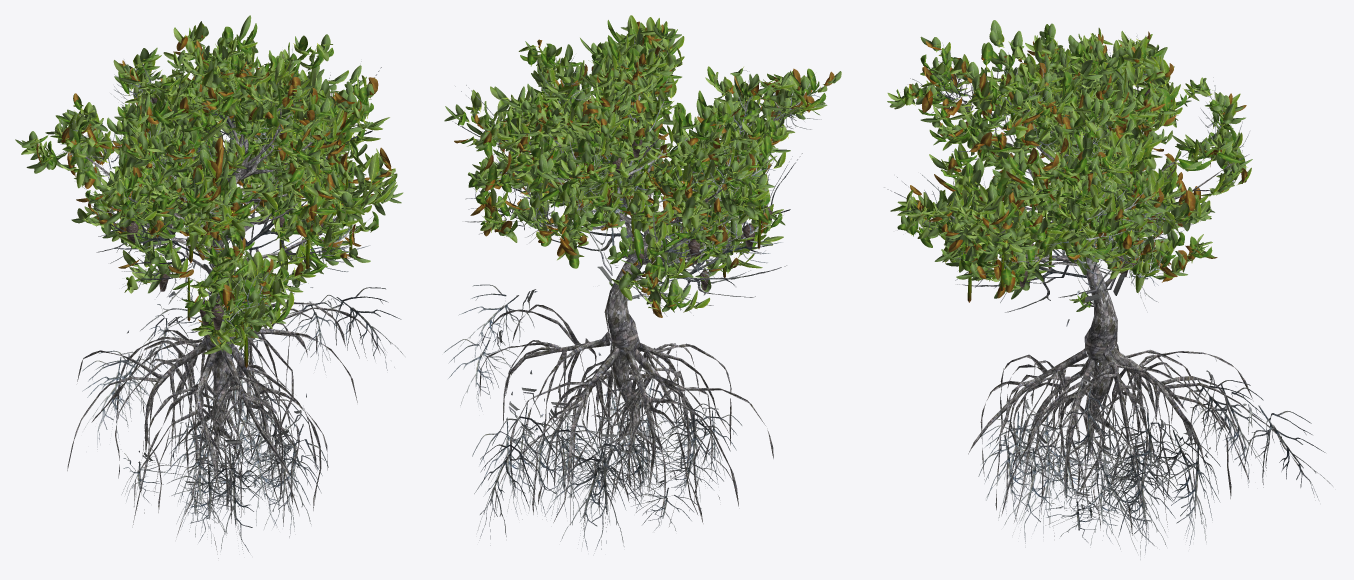
Rendered from red_lod0.glb.
The picture shows the model from 3 angles, left to right: view 1: azimuth 30°, elevation 25°; view 2: azimuth 150°, elevation 25°; view 3: azimuth 270°, elevation 25°; orthographic projection. The views are drawn at different scales.
Visible parts, largest first — view 1: lod0; view 2: lod0; view 3: lod0.
Part boxes in pixels (<box>): lod0: <box>15,15,403,558</box>; lod0: <box>444,15,841,555</box>; lod0: <box>884,20,1332,559</box>.
Bounding box in the file's own units: 6.79 × 9.41 × 7.62.
4 materials, 4 textured.
